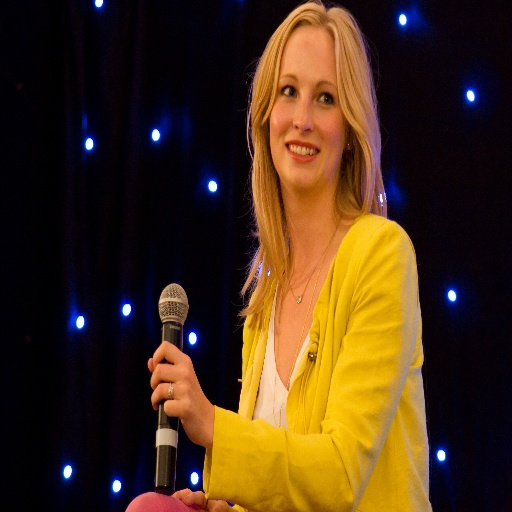hand: (148, 344, 214, 446), (169, 486, 238, 511)
